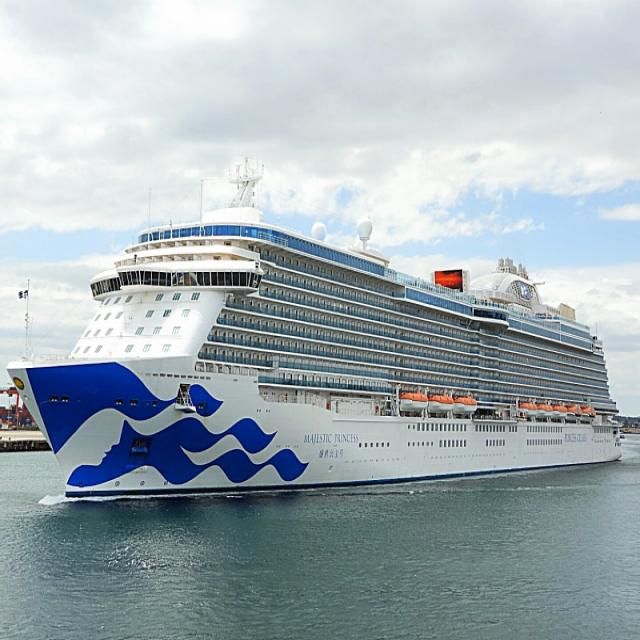cruises: (10, 159, 630, 497)
